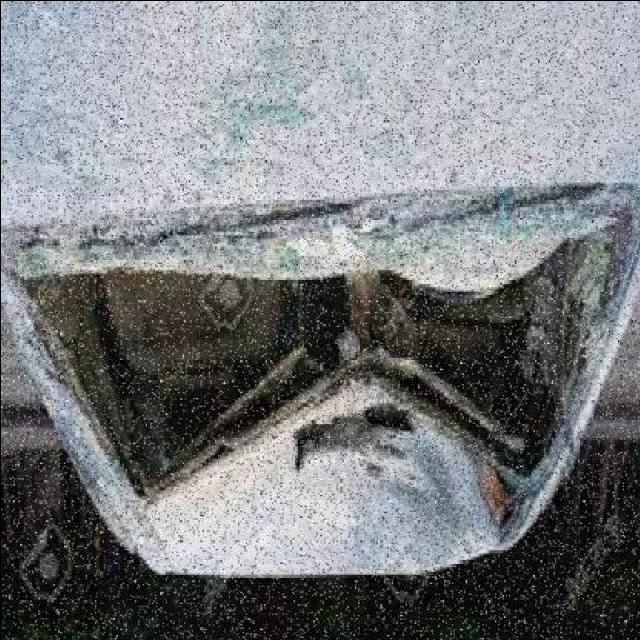roof-dent: (128, 384, 522, 591)
